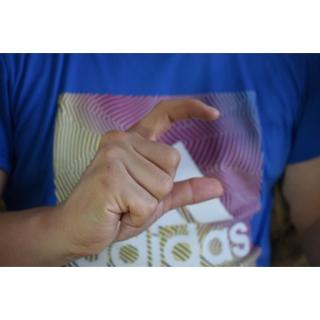DELL: (56, 93, 227, 262)
